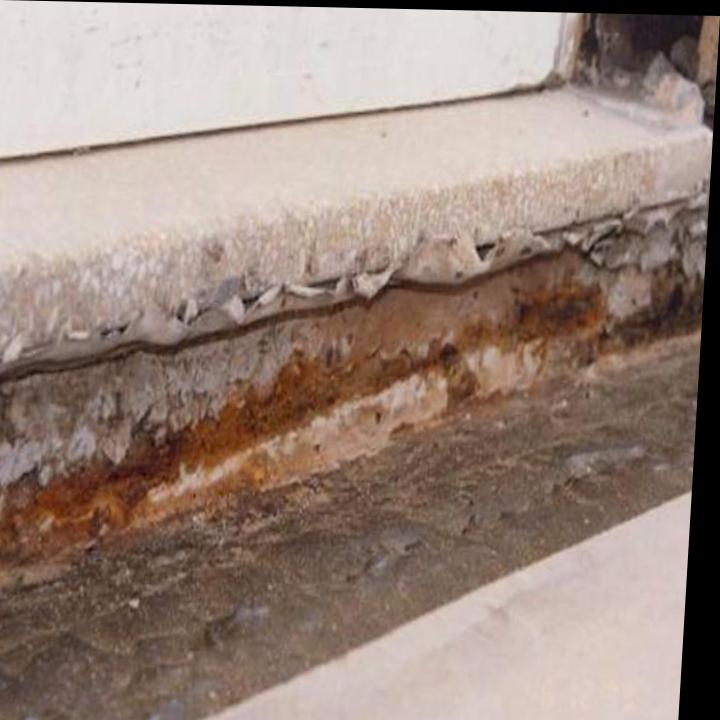damage: (0, 168, 713, 601)
